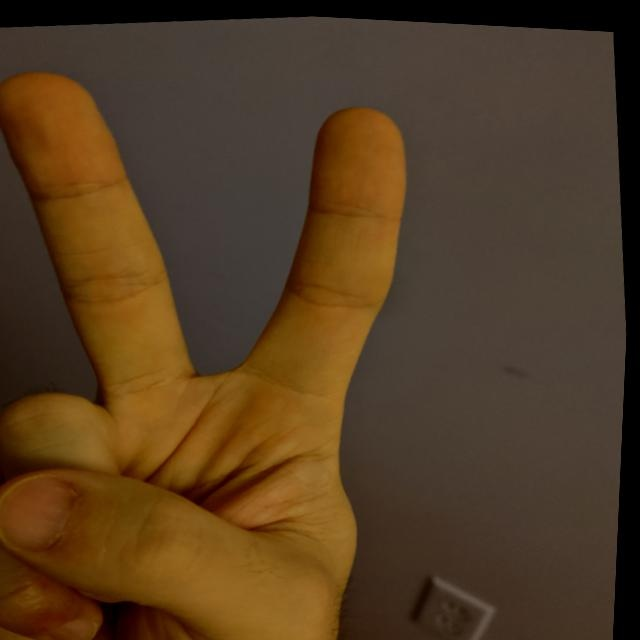V: (0, 29, 470, 639)
